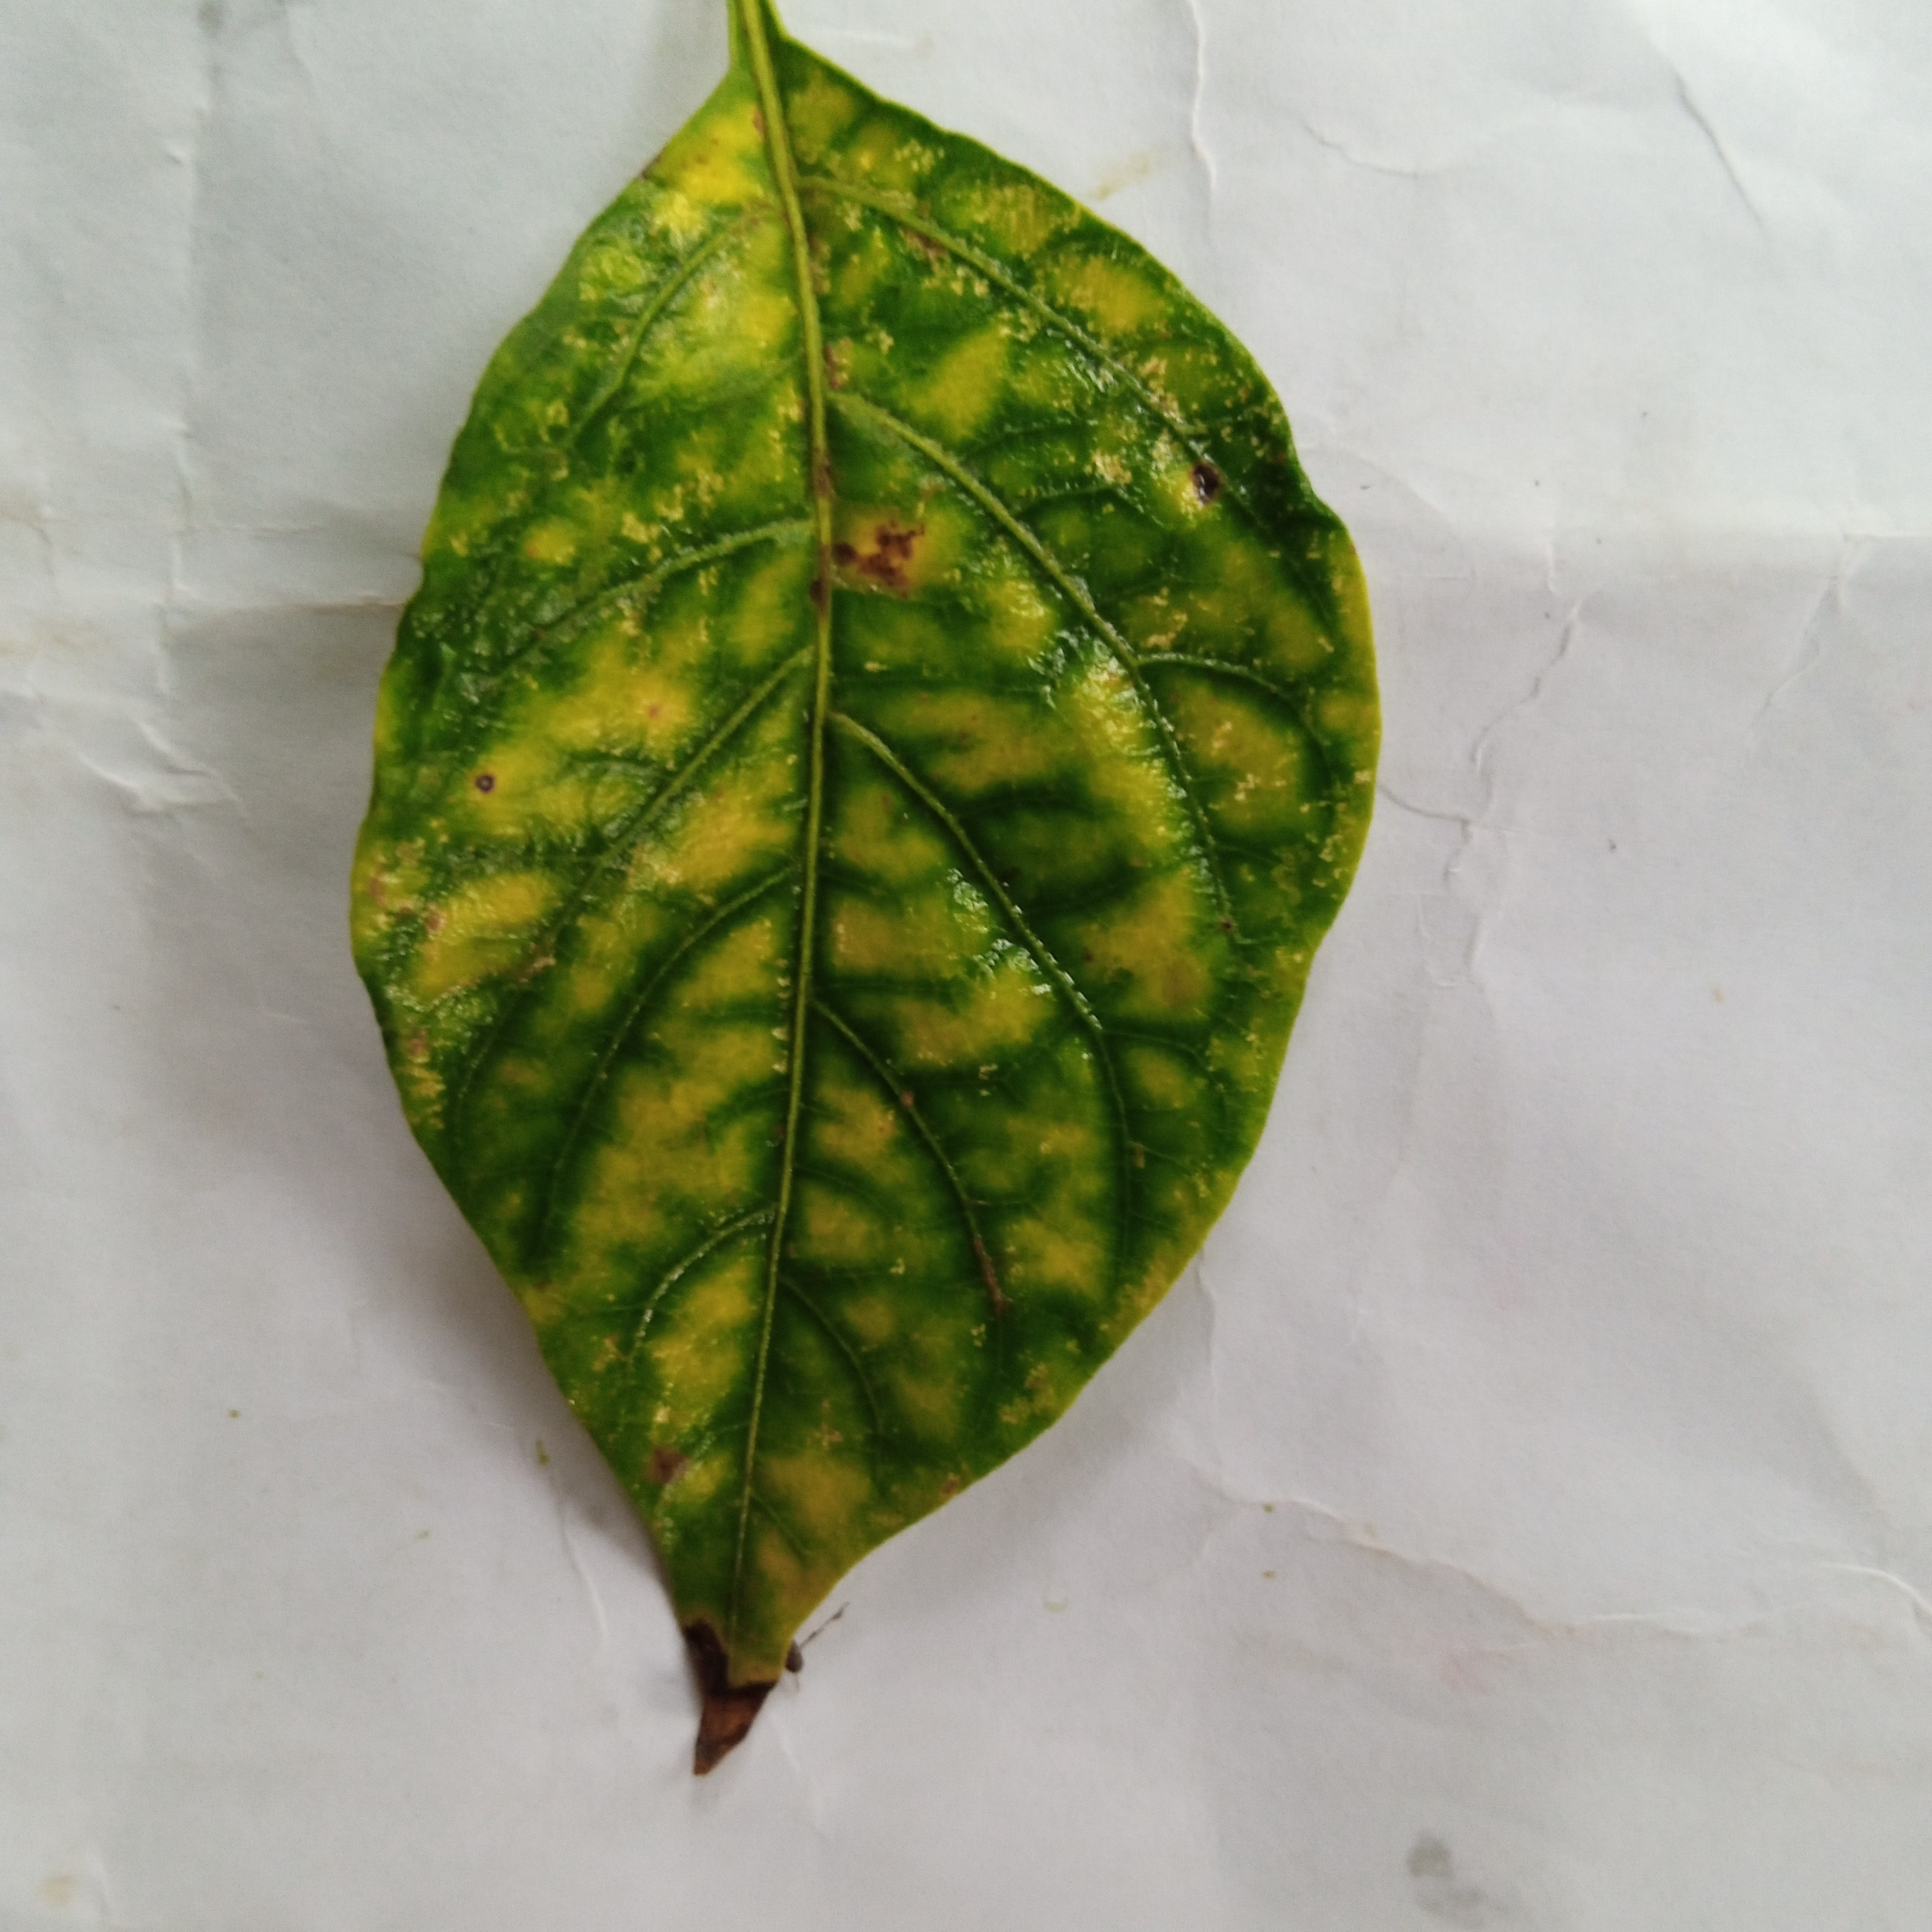Leaf: (205, 37, 1440, 1813)
